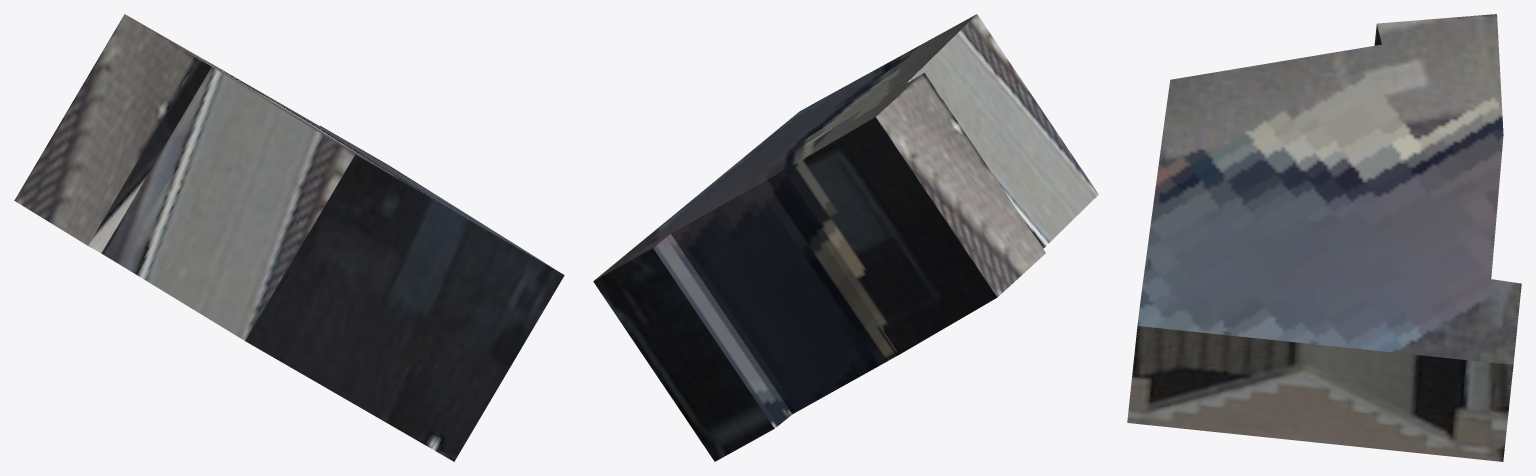
The picture shows the model from 3 angles, left to right: view 1: azimuth 30°, elevation 25°; view 2: azimuth 150°, elevation 25°; view 3: azimuth 270°, elevation 25°; orthographic projection. The views are drawn at different scales.
Parts seen in each view (by area): view 1: BAG_0599100010059655 (×3); view 2: BAG_0599100010059655 (×3); view 3: BAG_0599100010059655.
Part boxes in pixels (bbox=[...]): BAG_0599100010059655 (×3): bbox=[14, 14, 564, 461]; BAG_0599100010059655 (×3): bbox=[593, 14, 1098, 461]; BAG_0599100010059655: bbox=[1127, 14, 1521, 461].
Size of the model in its own units: 5.3 by 4.94 by 4.74.
Materials: 4 (4 with a texture image).
